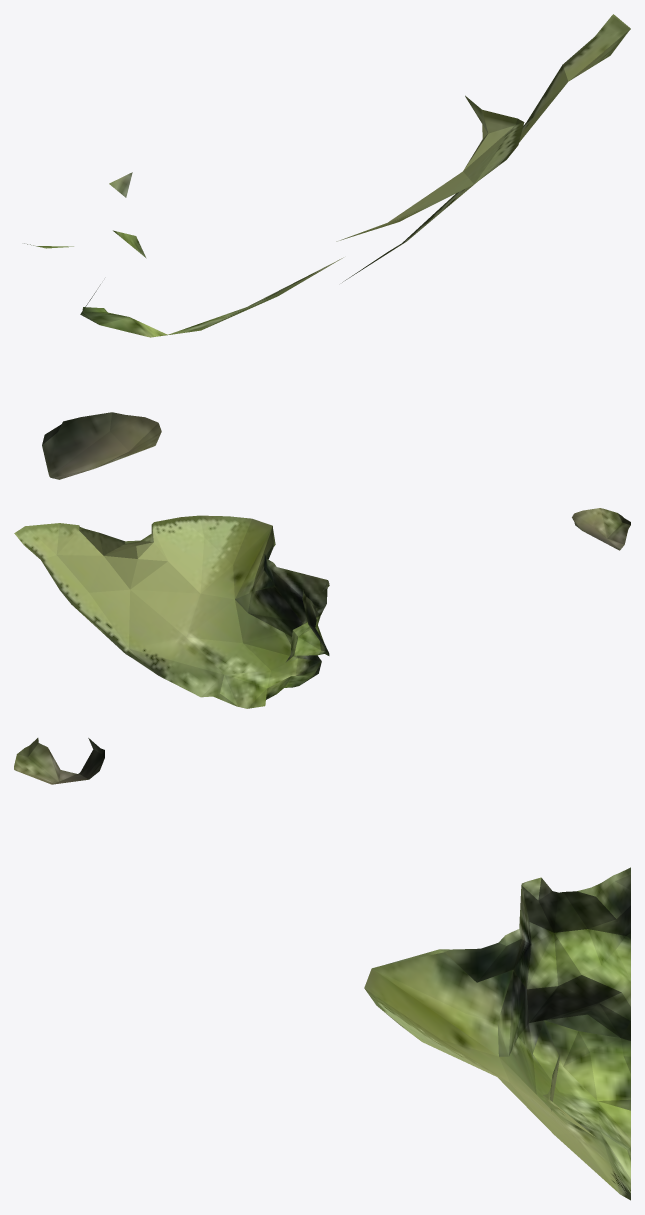
3 views of the same model, one above another, from view 1: azimuth 30°, elevation 25°; view 2: azimuth 150°, elevation 25°; view 3: azimuth 270°, elevation 25° (orthographic). The views are drawn at different scales.
Size of the model in its own units: 39.7 by 9.99 by 26.31.
1 material, 1 textured.
